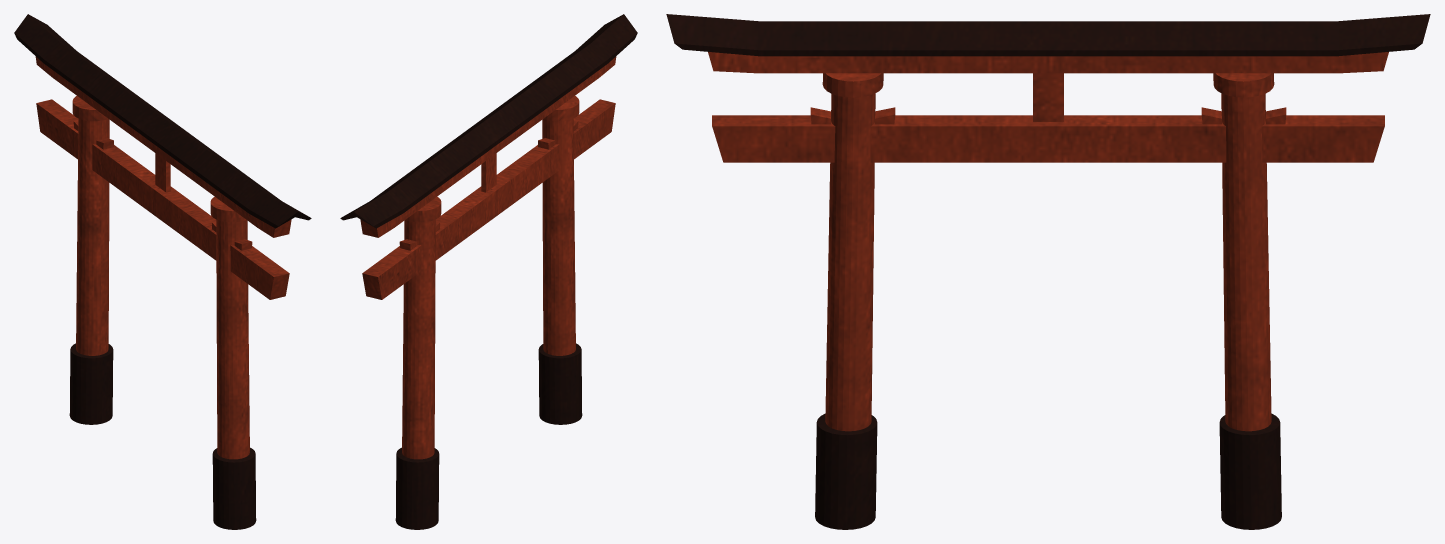
The model's file is tori.gltf.
The picture shows the model from 3 angles, left to right: view 1: azimuth 30°, elevation 25°; view 2: azimuth 150°, elevation 25°; view 3: azimuth 270°, elevation 25°; orthographic projection. The views are drawn at different scales.
Parts seen in each view (by area): view 1: tori; view 2: tori; view 3: tori.
Part boxes in pixels (box(x1,y1,x2,y2)): tori: box(14, 14, 311, 529); tori: box(340, 14, 637, 529); tori: box(666, 14, 1430, 529).
Bounding box in the file's own units: 1.15 × 10.49 × 14.44.
Materials: 1 (1 with a texture image).
